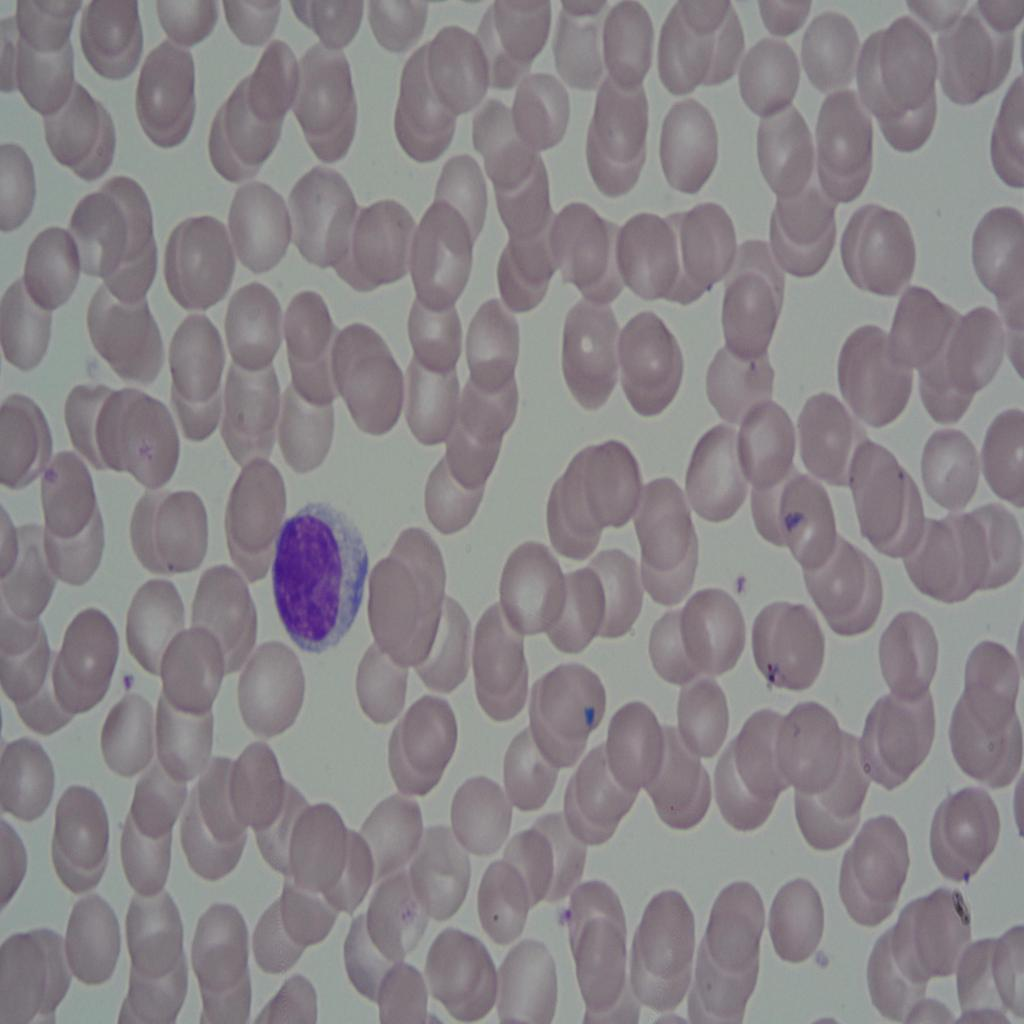Myeoblast: (267, 491, 376, 659)
Platelet: (33, 453, 65, 502), (805, 935, 837, 978), (780, 491, 803, 542), (728, 558, 751, 606), (581, 686, 598, 732), (119, 660, 138, 701)
